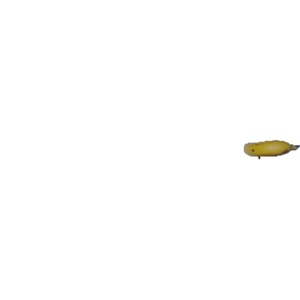banana: (241, 138, 297, 160)
